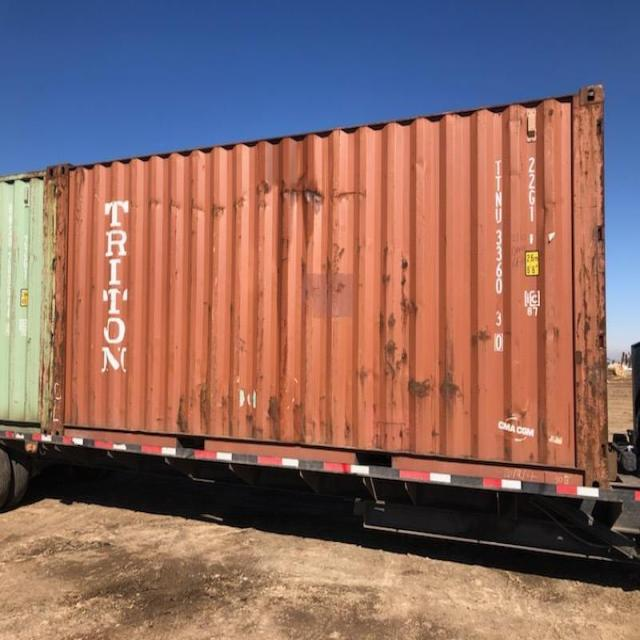rust: (147, 167, 372, 226), (577, 316, 610, 481), (383, 339, 411, 410), (400, 247, 421, 336), (438, 365, 465, 404), (267, 392, 283, 442), (198, 384, 212, 437), (175, 394, 192, 436), (470, 327, 493, 352), (409, 379, 433, 401), (246, 414, 264, 442), (386, 311, 398, 334), (382, 273, 393, 294)
